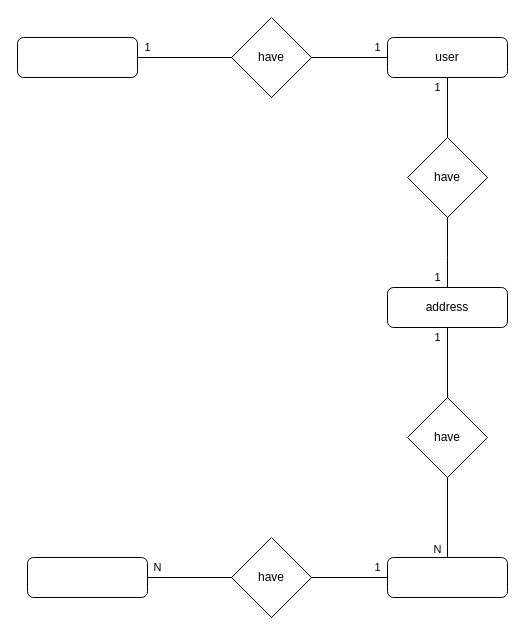
The diagram is 525 pixels wide and 635 high, and some of its shapes have lost their labels. The shapes that lost their labels are listed below. From the top down, each one's centre as x and y in pixels, then its label:
pixel 77 57: president
pixel 87 577: state
pixel 447 577: city
